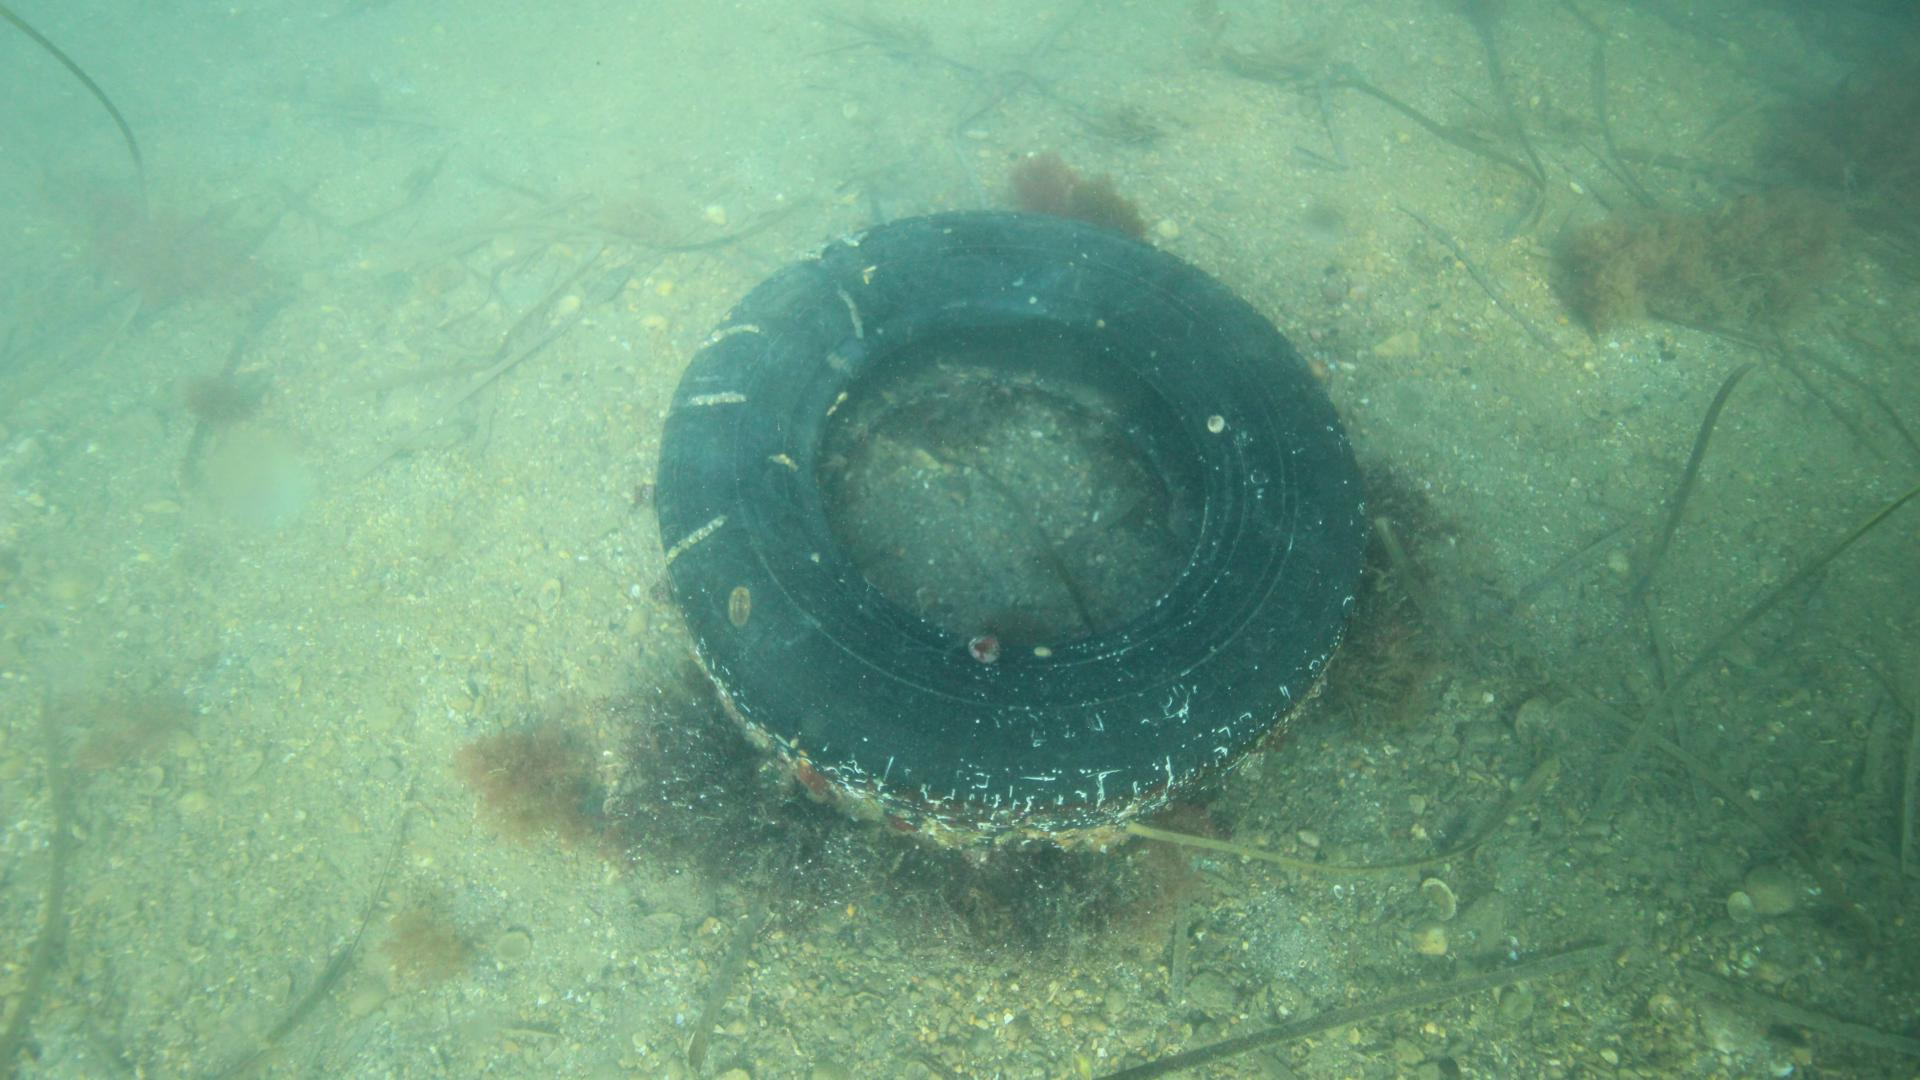tire: (653, 206, 1370, 849)
